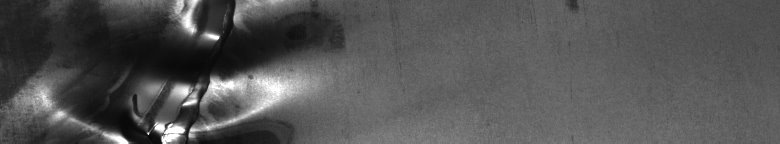ke: (9, 4, 272, 136)
